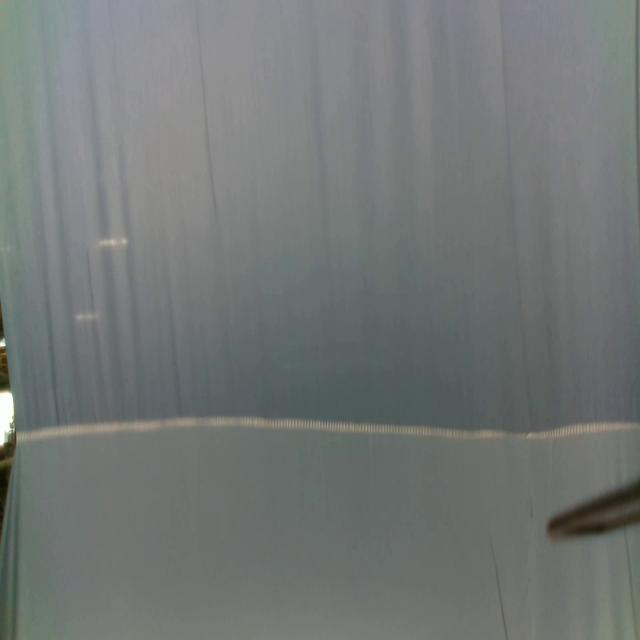crease: (497, 0, 534, 432), (196, 13, 219, 227), (486, 531, 508, 640), (625, 527, 639, 640)
